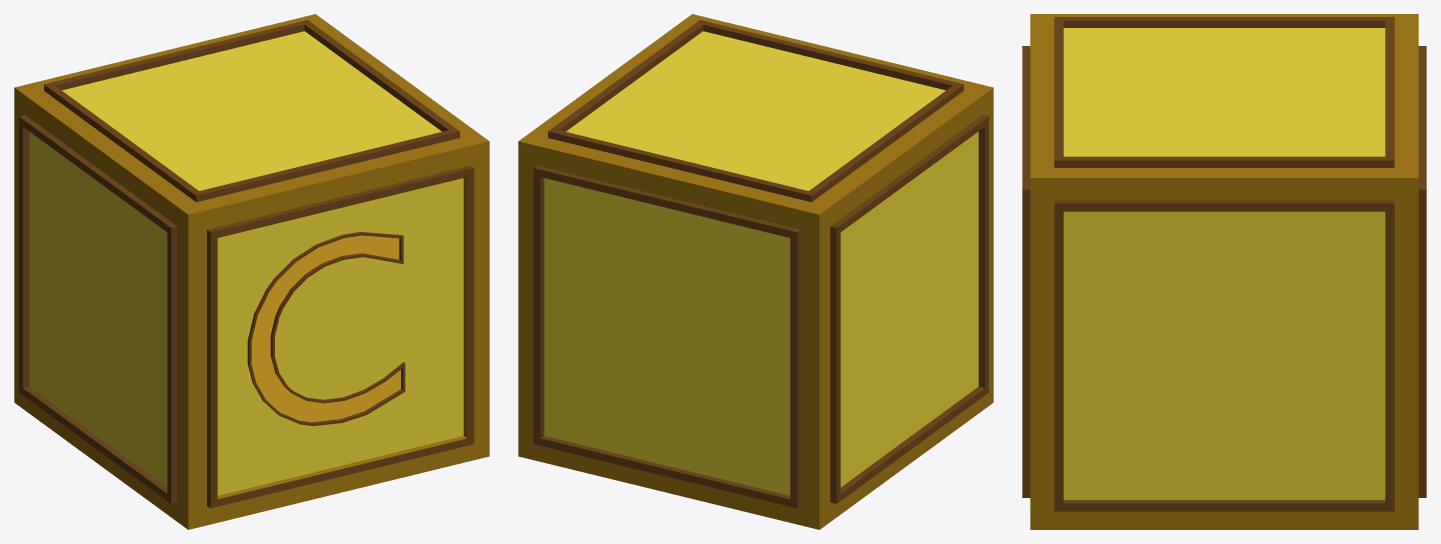
File: SM_Alphabet_blocks_C.fbx
The picture shows the model from 3 angles, left to right: view 1: azimuth 30°, elevation 25°; view 2: azimuth 150°, elevation 25°; view 3: azimuth 270°, elevation 25°; orthographic projection. The views are drawn at different scales.
Visible parts, largest first — view 1: SM_Alphabet blocks_C; view 2: SM_Alphabet blocks_C; view 3: SM_Alphabet blocks_C.
Boxes of the visible parts, box(x1,y1,x2,y2) form: SM_Alphabet blocks_C: box(14, 14, 489, 529); SM_Alphabet blocks_C: box(518, 14, 993, 529); SM_Alphabet blocks_C: box(1022, 14, 1426, 529).
Bounding box in the file's own units: 71.98 × 71.98 × 71.98.
